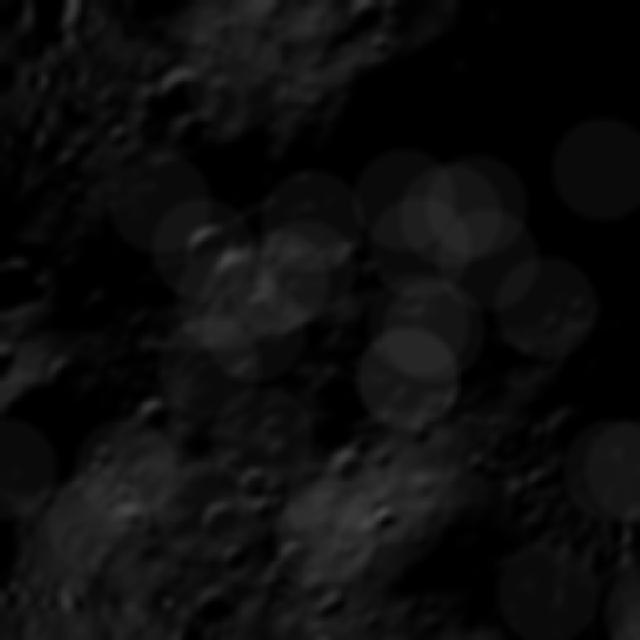crater: (0, 337, 138, 530), (125, 40, 228, 146), (0, 230, 75, 344), (54, 268, 140, 358), (161, 202, 245, 292), (176, 484, 250, 559), (258, 521, 332, 596), (181, 572, 250, 640), (222, 452, 290, 520), (309, 434, 374, 501), (233, 278, 292, 337), (0, 319, 35, 416), (333, 0, 395, 54), (211, 531, 267, 586), (357, 492, 409, 546), (150, 581, 195, 617), (290, 621, 347, 640)
